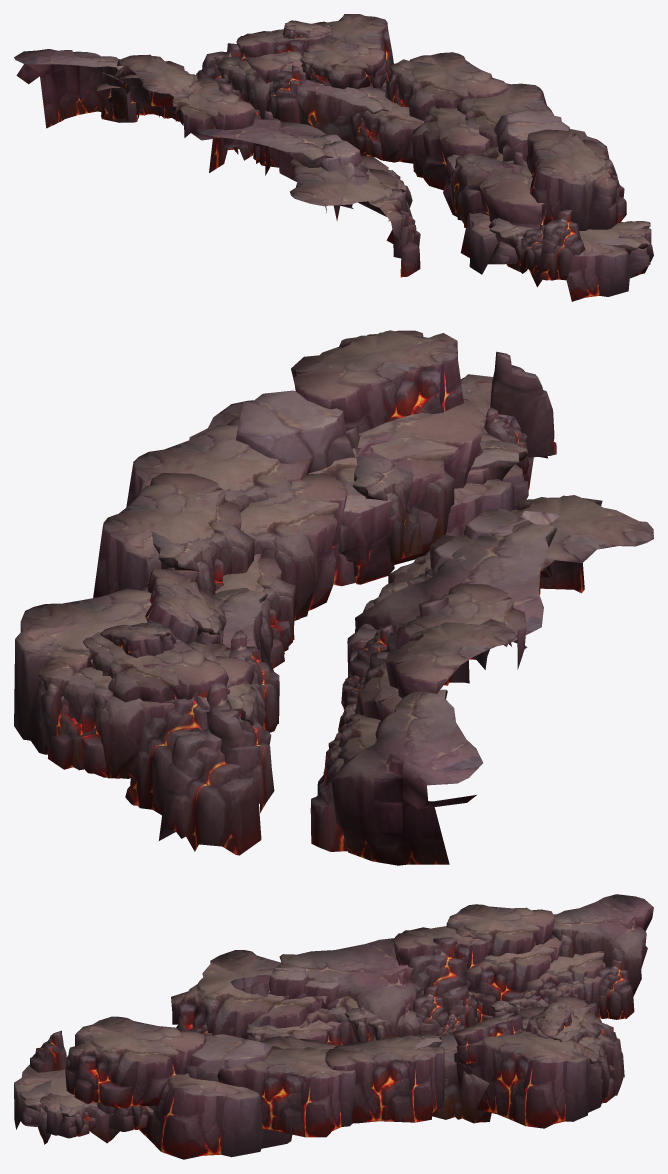
Rendered from yanshi18_1.fbx.
3 views of the same model, one above another, from view 1: azimuth 30°, elevation 25°; view 2: azimuth 150°, elevation 25°; view 3: azimuth 270°, elevation 25° (orthographic). The views are drawn at different scales.
Visible parts, largest first — view 1: yanshi18_1; view 2: yanshi18_1; view 3: yanshi18_1.
Part boxes in pixels (<box>): yanshi18_1: <box>14,14,653,301</box>; yanshi18_1: <box>14,330,653,865</box>; yanshi18_1: <box>14,894,653,1159</box>.
Size of the model in its own units: 8506 by 2455 by 12277.
